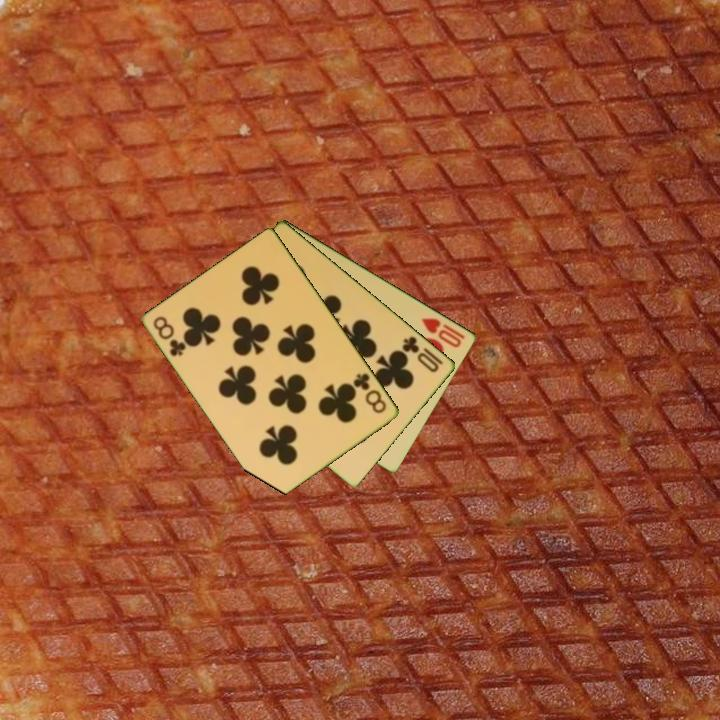10c: (399, 333, 446, 375)
10h: (418, 314, 465, 351)
8c: (350, 370, 390, 417), (150, 313, 189, 359)
